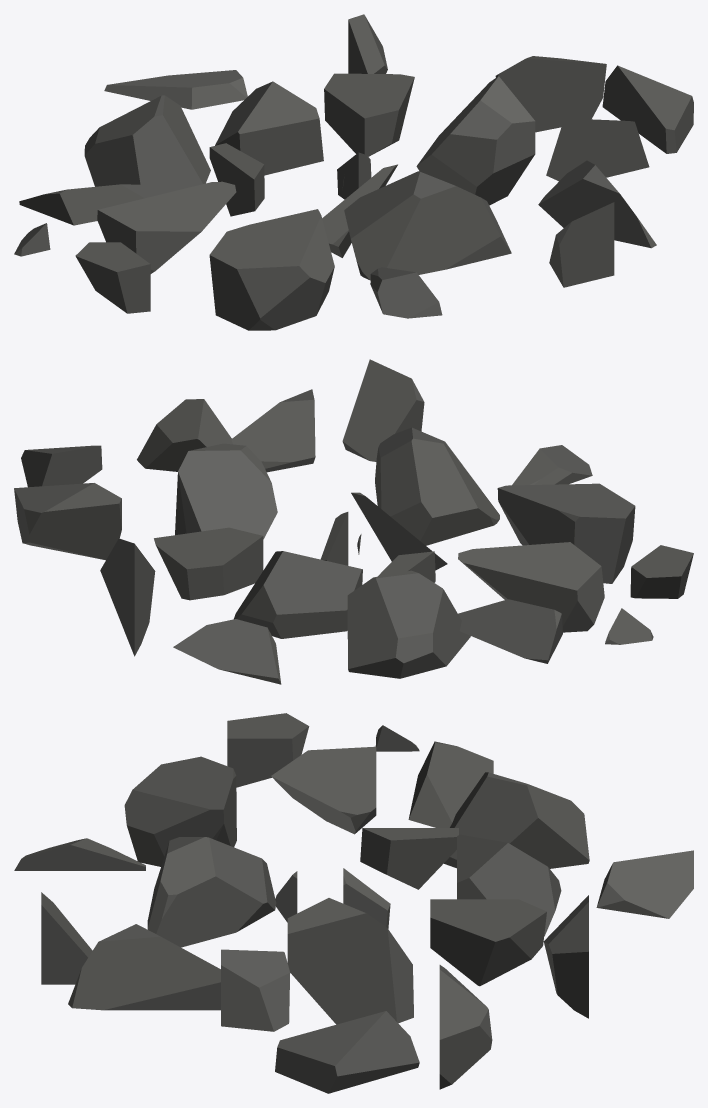
File: SM_Envr_Nature_Rock_Rubble_05.fbx
3 renders of one model, top to bottom at view 1: azimuth 30°, elevation 25°; view 2: azimuth 150°, elevation 25°; view 3: azimuth 270°, elevation 25°, orthographic. The views are drawn at different scales.
Parts seen in each view (by area): view 1: SM_Envr_Nature_Rock_Rubble_05; view 2: SM_Envr_Nature_Rock_Rubble_05; view 3: SM_Envr_Nature_Rock_Rubble_05.
Boxes of the visible parts, x1,y1,x2,y2 form: SM_Envr_Nature_Rock_Rubble_05: [14, 14, 693, 330]; SM_Envr_Nature_Rock_Rubble_05: [14, 359, 693, 684]; SM_Envr_Nature_Rock_Rubble_05: [14, 713, 693, 1093].
Size of the model in its own units: 893 by 163 by 734.
